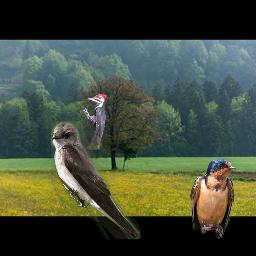Swallow: (51, 121, 141, 239), (190, 158, 237, 239)
Woodpecker: (79, 94, 107, 150)
